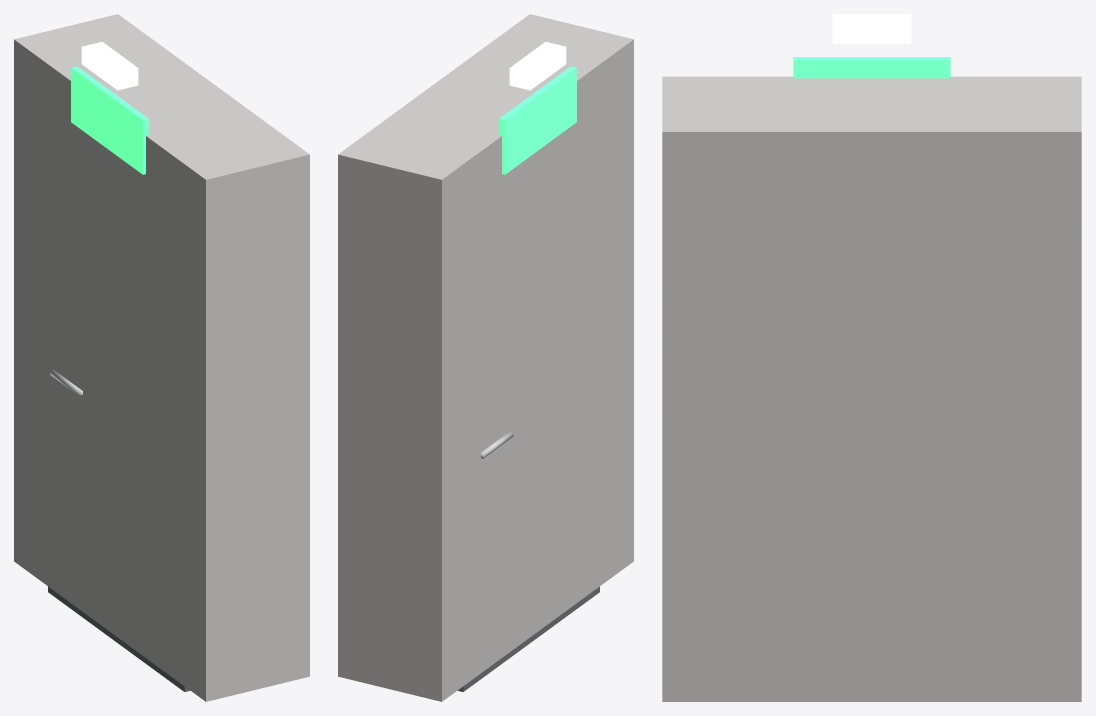
File: emergency_door.glb
3 renders of one model, left to right at view 1: azimuth 30°, elevation 25°; view 2: azimuth 150°, elevation 25°; view 3: azimuth 270°, elevation 25°, orthographic. The views are drawn at different scales.
Visible parts, largest first — view 1: Niche, Sign, Lamp, DoorFrame; view 2: Niche, Sign, Lamp, DoorFrame; view 3: Niche, Sign, Lamp.
Part boxes in pixels (x1,y1,x2,y2): Niche: (14, 14, 309, 701); Sign: (71, 66, 148, 174); Lamp: (81, 41, 138, 90); DoorFrame: (48, 586, 190, 691); Niche: (338, 14, 633, 701); Sign: (499, 66, 576, 174); Lamp: (509, 41, 566, 90); DoorFrame: (457, 586, 599, 691); Niche: (662, 76, 1081, 701); Sign: (793, 57, 950, 78); Lamp: (832, 14, 911, 43).
Bounding box in the file's own units: 0.55 × 2.7 × 1.6.
